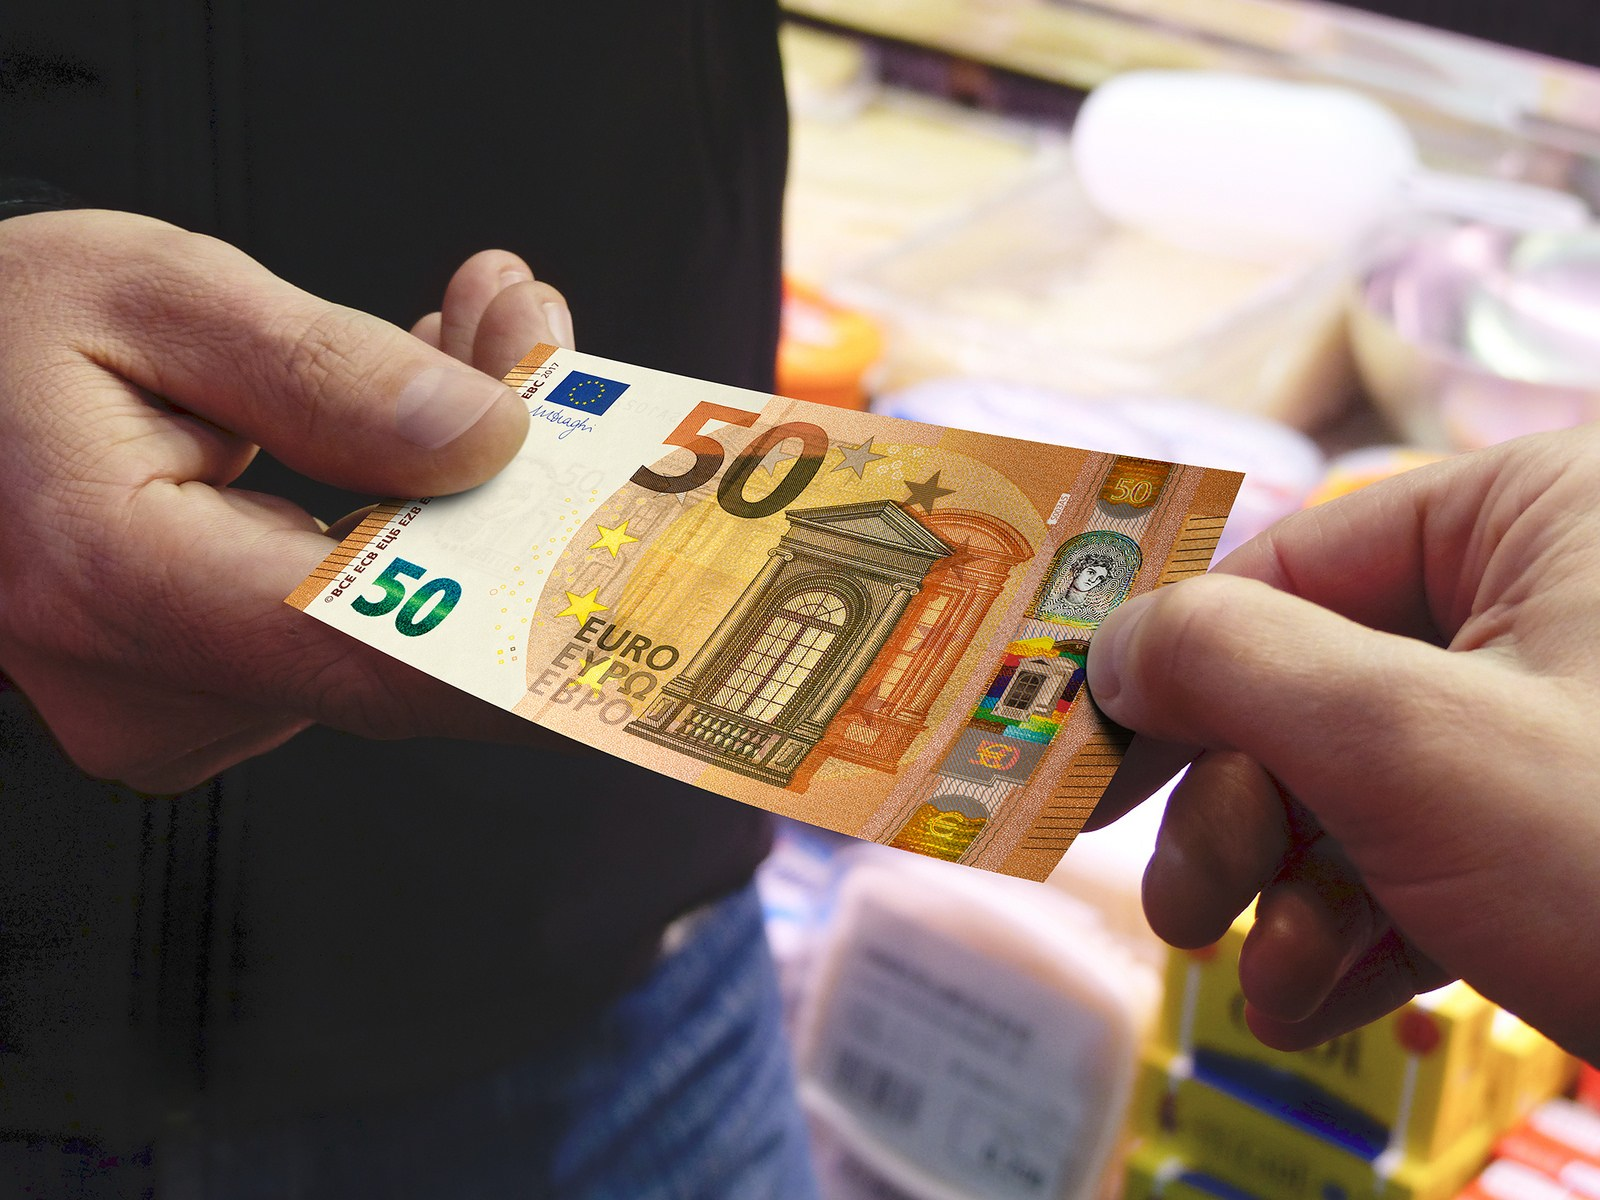billete: (285, 343, 1243, 880)
